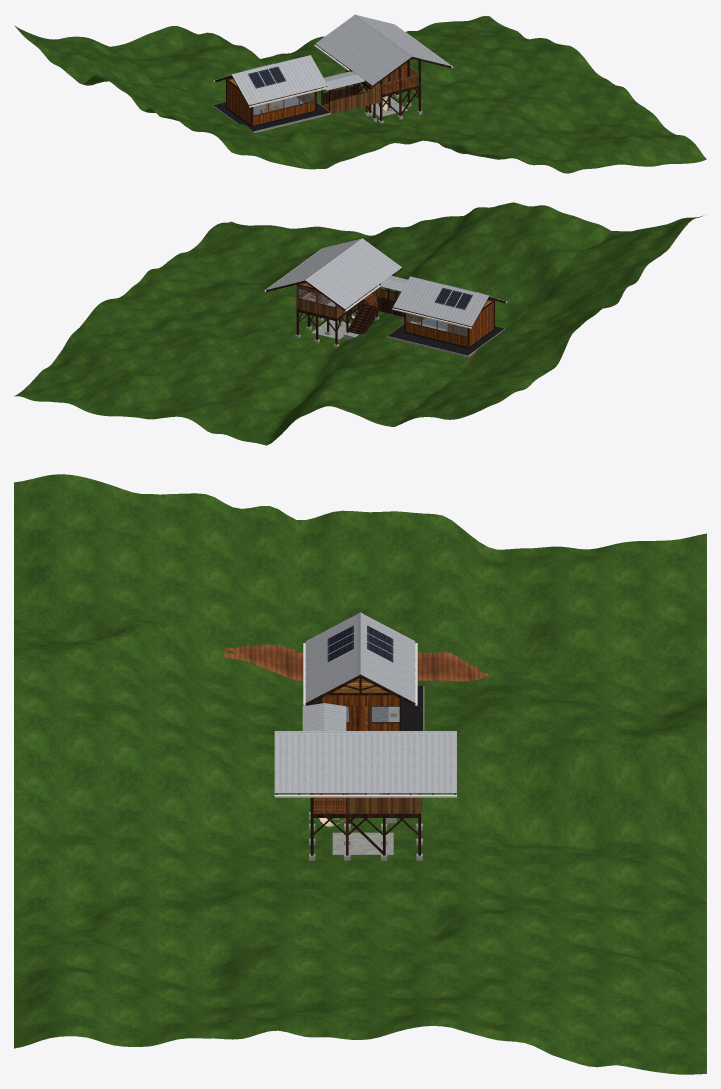
Rendered from finca.glb.
3 views of the same model, one above another, from view 1: azimuth 30°, elevation 25°; view 2: azimuth 150°, elevation 25°; view 3: azimuth 270°, elevation 25° (orthographic). The views are drawn at different scales.
Visible parts, largest first — view 1: terrain, house_roof, kitchen_roof, kitchen, house, bridge; view 2: terrain, house_roof, kitchen, kitchen_roof, house, bridge, stair; view 3: terrain, house_roof, kitchen_roof, house, kitchen, bridge.
Part boxes in pixels (x1=…): terrain: x1=15, y1=16, x2=706, y2=173; house_roof: x1=314, y1=14, x2=453, y2=87; kitchen_roof: x1=213, y1=55, x2=328, y2=107; kitchen: x1=212, y1=78, x2=330, y2=132; house: x1=346, y1=57, x2=422, y2=123; bridge: x1=321, y1=71, x2=380, y2=122; terrain: x1=14, y1=202, x2=703, y2=445; house_roof: x1=264, y1=238, x2=401, y2=311; kitchen: x1=387, y1=299, x2=504, y2=357; kitchen_roof: x1=392, y1=276, x2=507, y2=328; house: x1=295, y1=281, x2=371, y2=347; bridge: x1=363, y1=275, x2=412, y2=324; stair: x1=343, y1=296, x2=379, y2=339; terrain: x1=14, y1=474, x2=706, y2=1074; house_roof: x1=274, y1=731, x2=456, y2=797; kitchen_roof: x1=303, y1=612, x2=417, y2=705; house: x1=309, y1=793, x2=422, y2=860; kitchen: x1=305, y1=676, x2=424, y2=730; bridge: x1=302, y1=703, x2=346, y2=819.
Bounding box in the file's own units: 48 × 13.95 × 38.
Materials: 26 (14 with a texture image).
